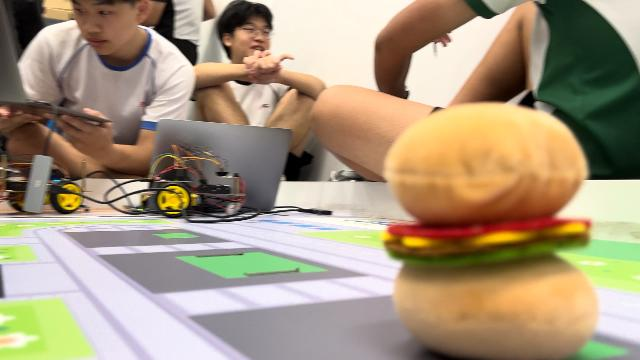burger: (380, 97, 602, 357)
